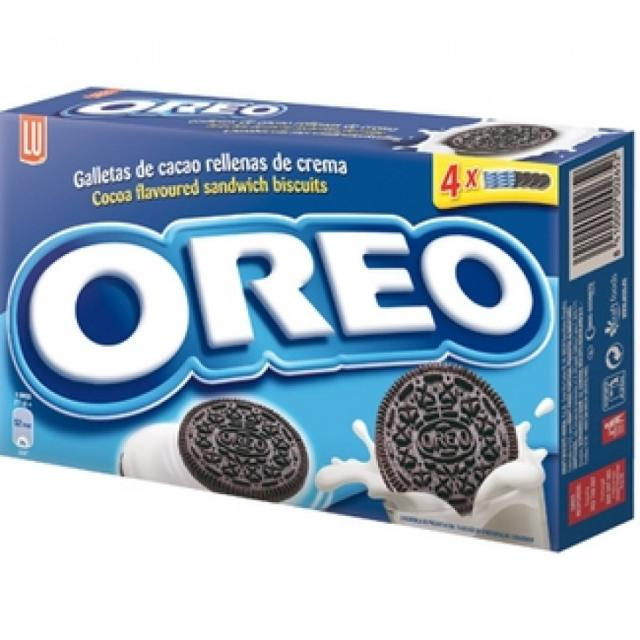Caja: (1, 56, 640, 557)
